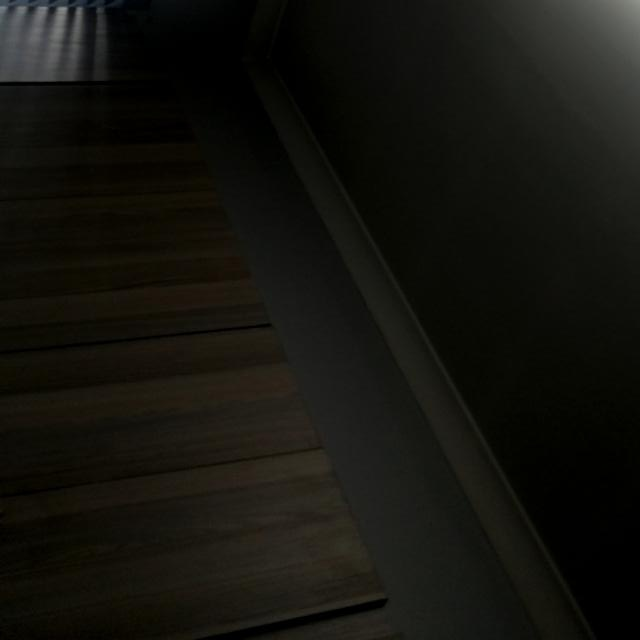fluorescent tube: (474, 0, 640, 371)
